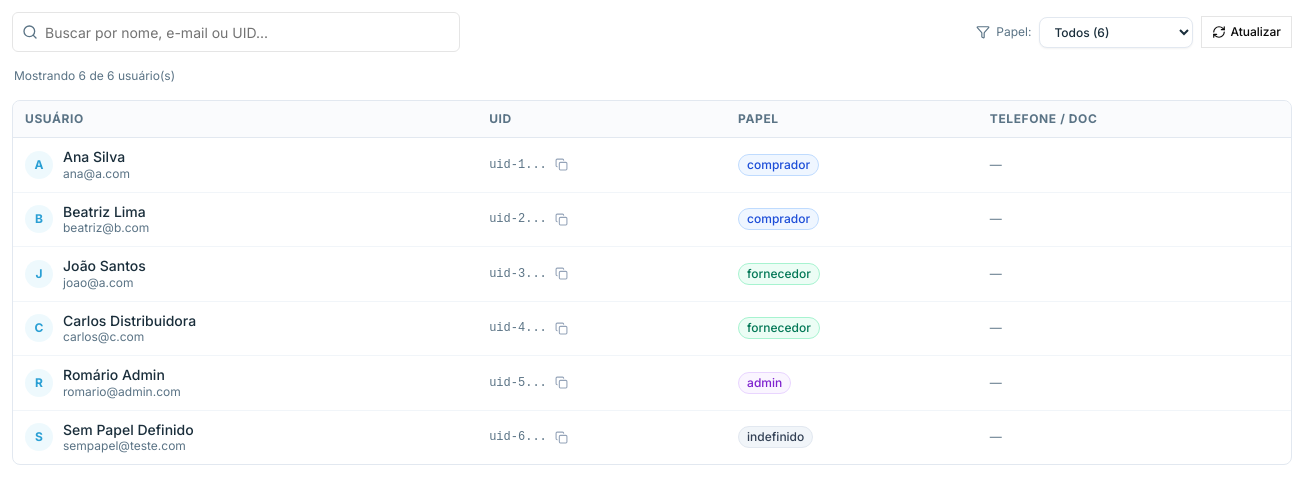
Test case: AdminUsersTab › filtra usuários comportamentalmente por cada papel selecionado
The image size is (1304, 482).
Expected: the text "Ana Silva" is shown, [63,148,130,166]
// Filtra Compradores
Select "Compradores (2)" in the dropdown named "filtrar por papel": (1116, 32) [1039,16,1193,48]
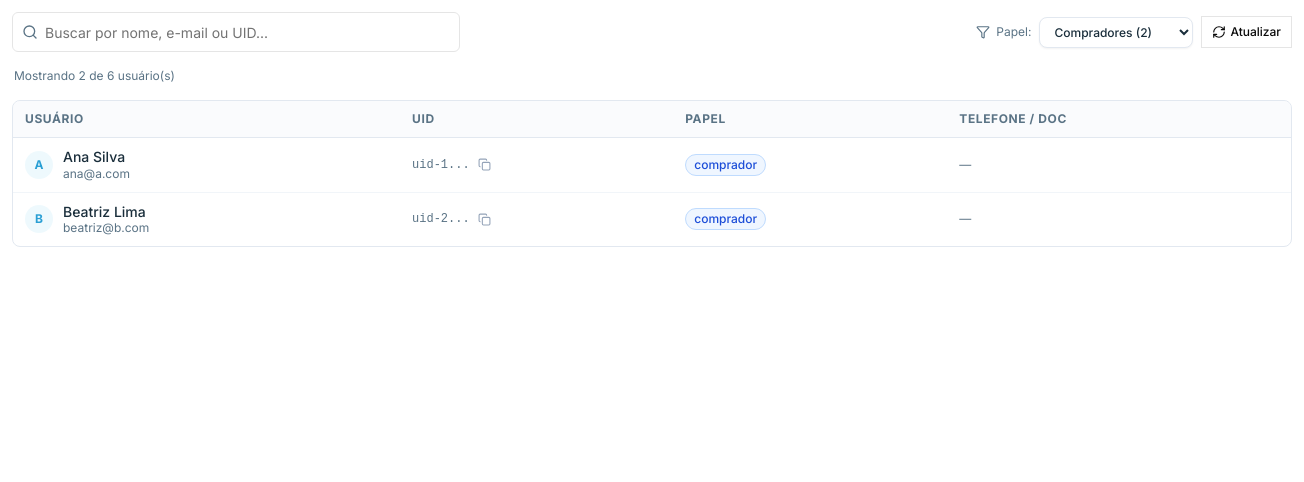
Expected: the text "Ana Silva" is shown, [63,148,130,166]
Expected: the text "João Santos" is gone
Expected: the text "Sem Papel Definido" is gone
// Filtra Fornecedores
Select "Fornecedores (2)" in the dropdown named "filtrar por papel": (1116, 32) [1039,16,1193,48]
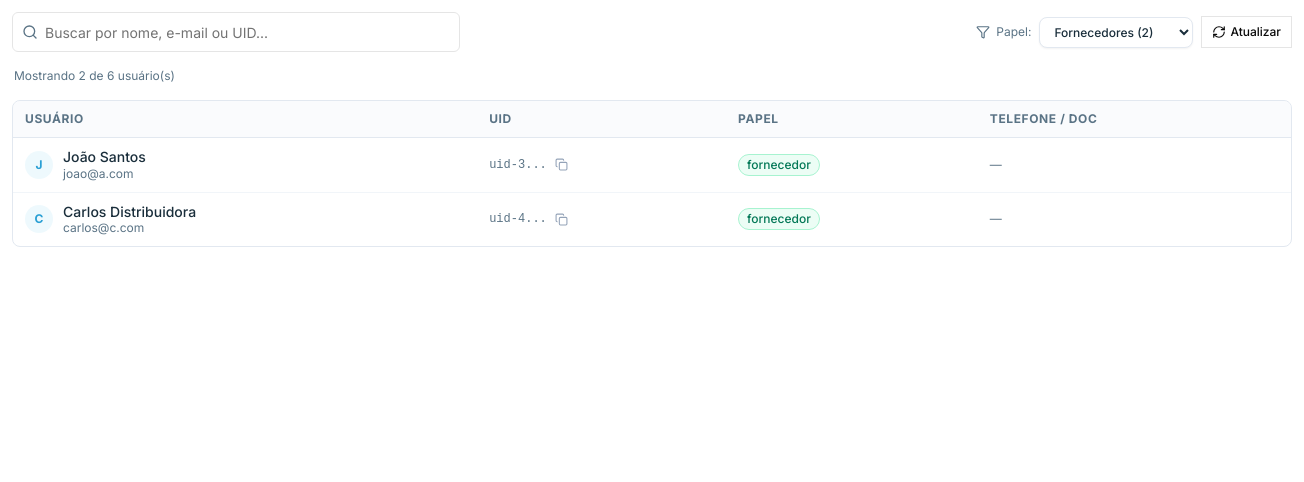
Expected: the text "João Santos" is shown, [63,148,146,166]
Expected: the text "Carlos Distribuidora" is shown, [63,202,196,220]
Expected: the text "Ana Silva" is gone
// Filtra Administradores
Select "Administradores (1)" in the dropdown named "filtrar por papel": (1116, 32) [1039,16,1193,48]
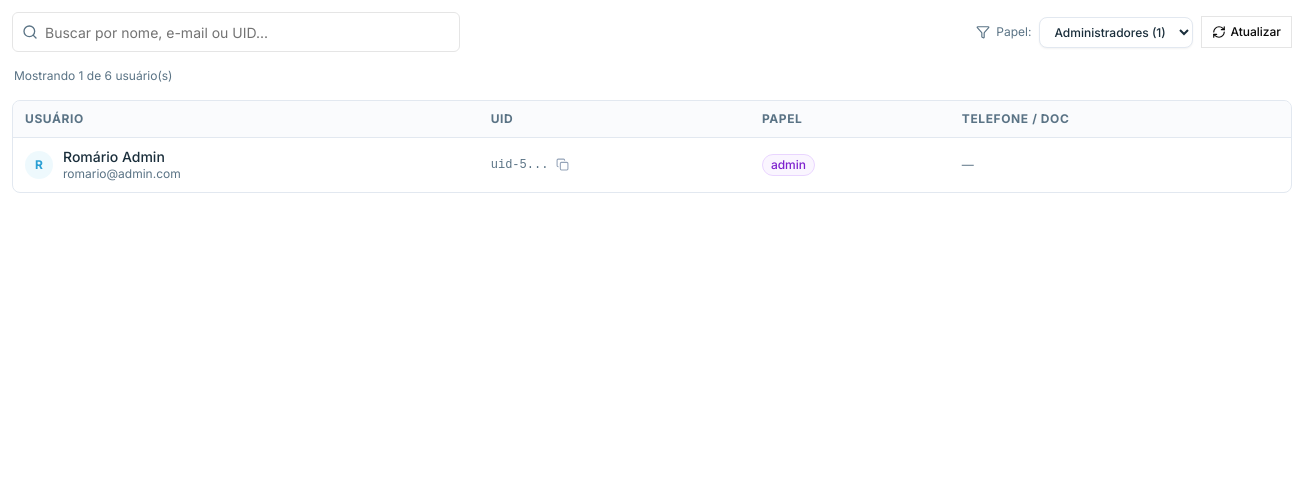
Expected: the text "Romário Admin" is shown, [63,148,181,166]
Expected: the text "João Santos" is gone
// Filtra Outros / Sem Papel
Select "Outros (1)" in the dropdown named "filtrar por papel": (1116, 32) [1039,16,1193,48]
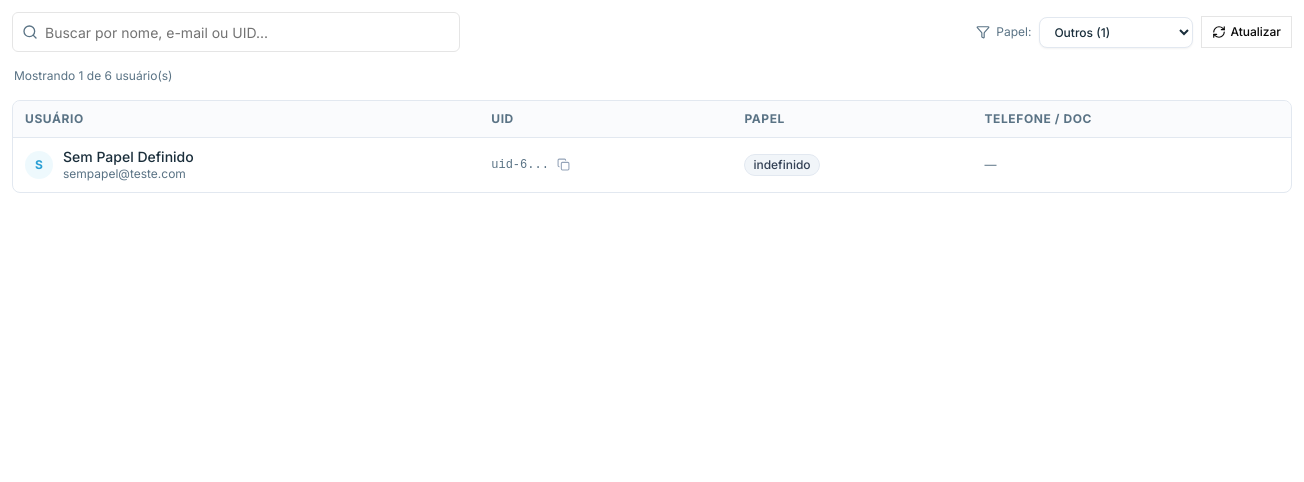
Expected: the text "Ana Silva" is not shown
Expected: the text "Sem Papel Definido" is shown, [63,148,194,166]
Expected: the text "Romário Admin" is gone
